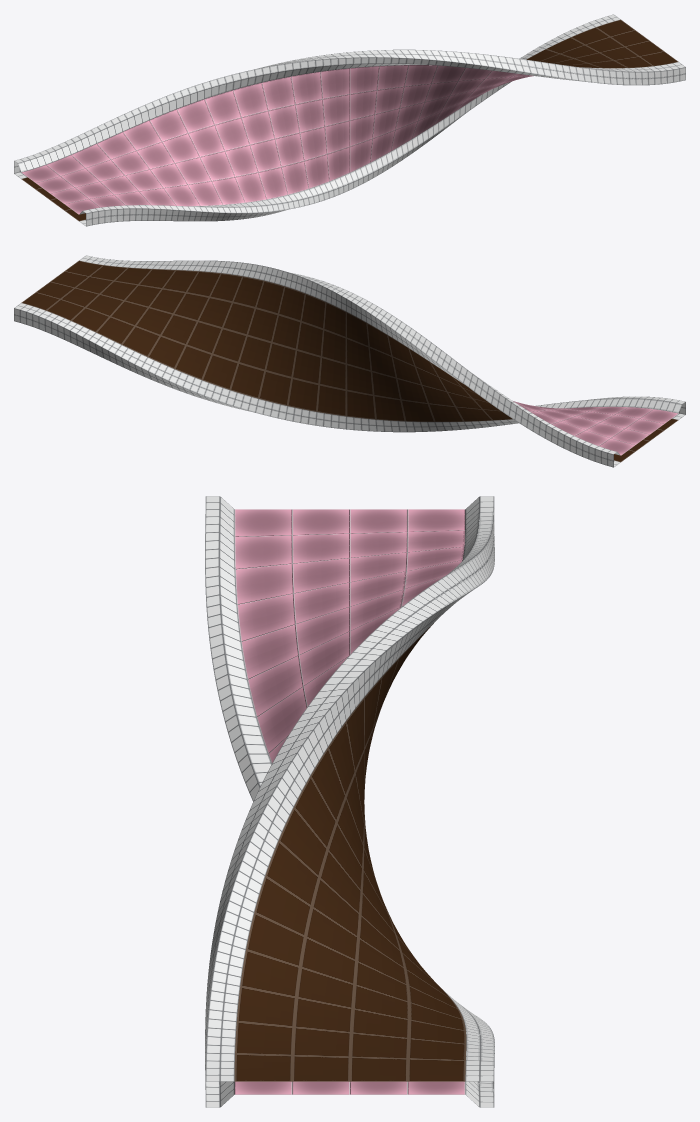
Rendered from GravitationalismTwistNew.obj.
3 renders of one model, top to bottom at view 1: azimuth 30°, elevation 25°; view 2: azimuth 150°, elevation 25°; view 3: azimuth 270°, elevation 25°, orthographic. The views are drawn at different scales.
Parts seen in each view (by area): view 1: Cube.001; view 2: Cube.001; view 3: Cube.001.
Boxes of the visible parts, x1,y1,x2,y2 form: Cube.001: (14,14,685,226); Cube.001: (14,255,685,467); Cube.001: (205,496,494,1107).
Size of the model in its own units: 48 by 10.05 by 10.05.
